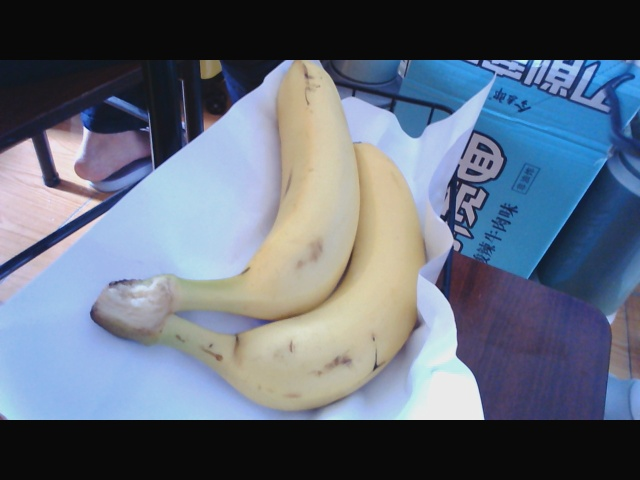banana: (208, 70, 434, 413)
